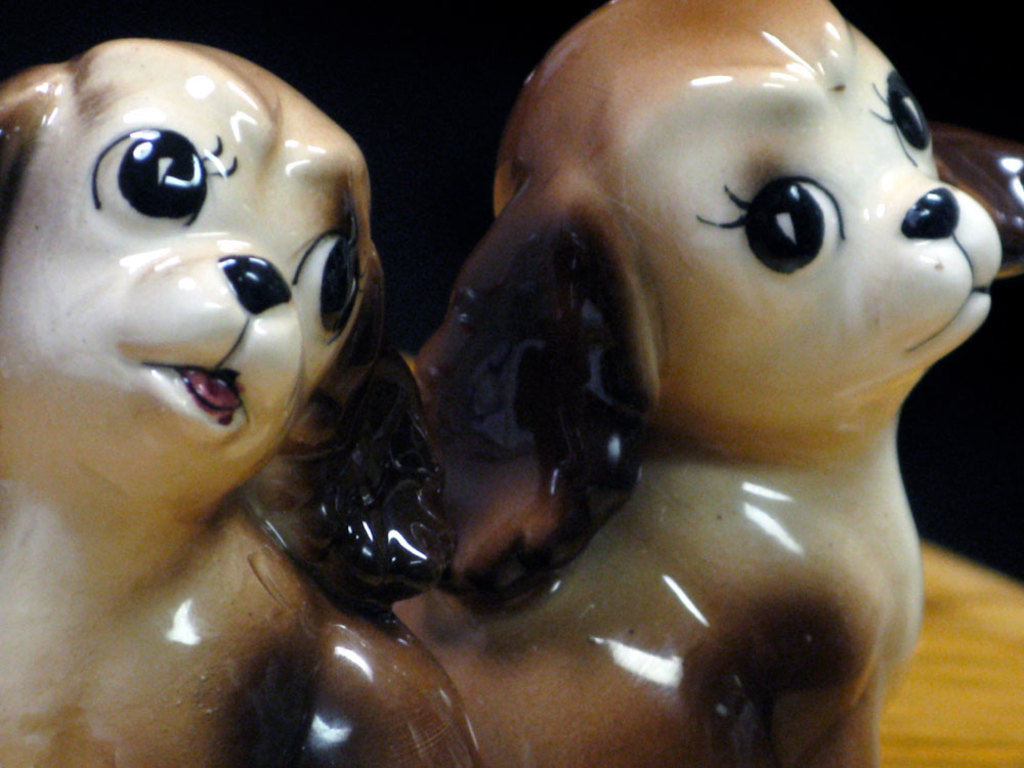Animal: (423, 0, 1022, 766), (0, 31, 442, 766)
